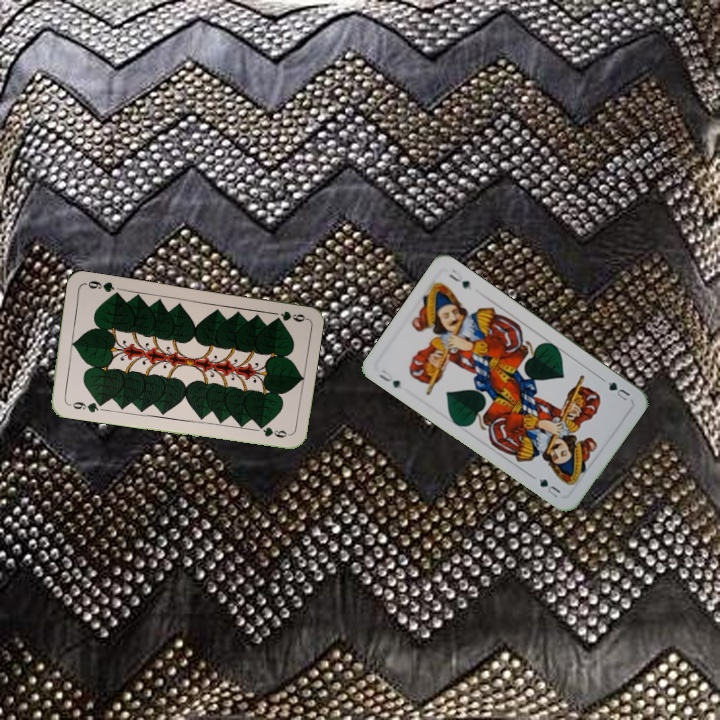G9: (64, 397, 105, 415), (277, 307, 308, 325)
GU: (375, 365, 403, 391), (604, 378, 633, 403)
